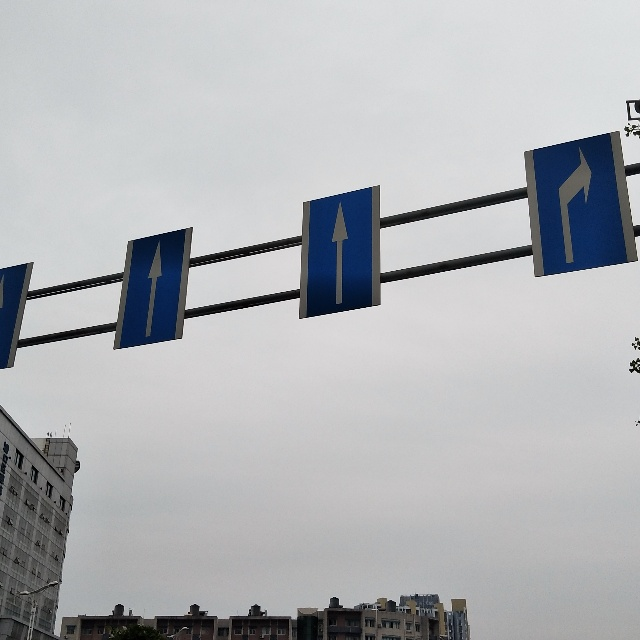right: (533, 139, 616, 273)
straight: (310, 200, 369, 311), (134, 233, 179, 342)
